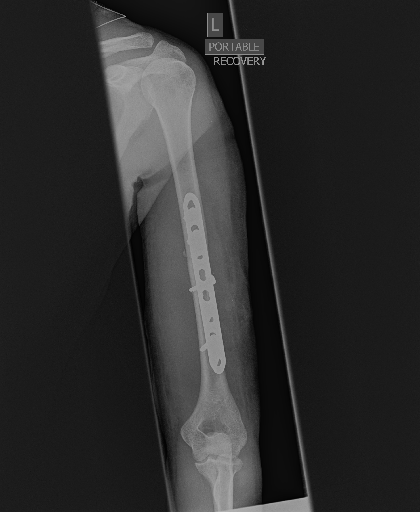implant: (169, 182, 236, 378)
